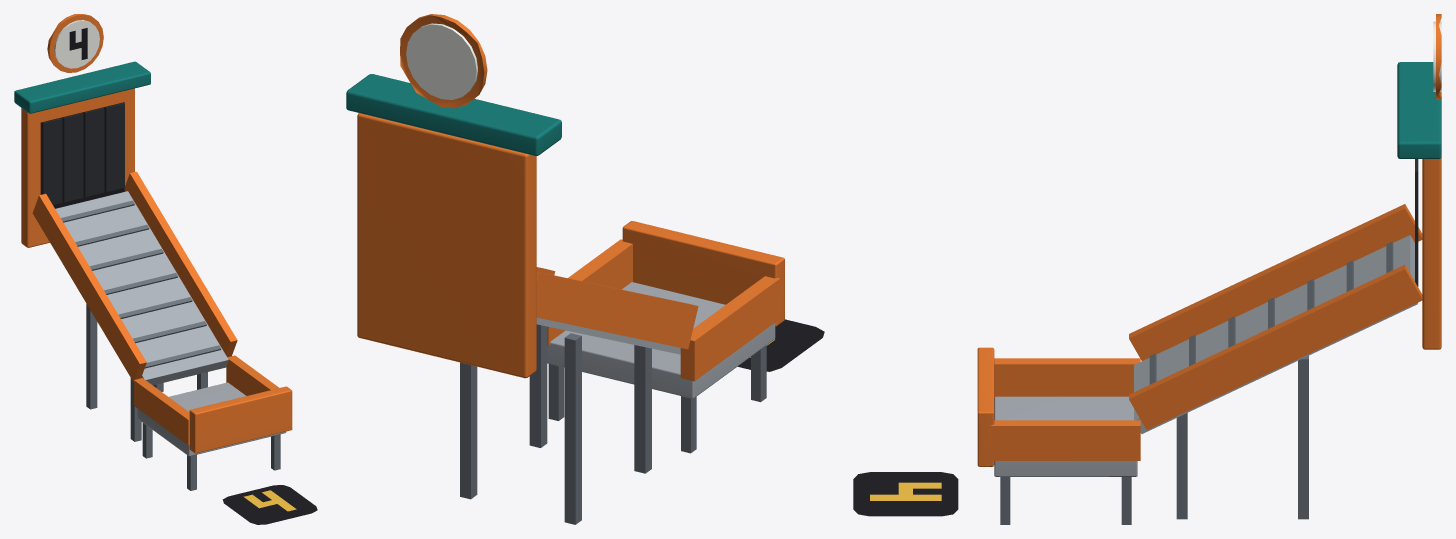
Rendered from Tobogan4.fbx.
3 renders of one model, left to right at view 1: azimuth 30°, elevation 25°; view 2: azimuth 150°, elevation 25°; view 3: azimuth 270°, elevation 25°, orthographic. The views are drawn at different scales.
Visible parts, largest first — view 1: Tobogan4; view 2: Tobogan4; view 3: Tobogan4.
Part boxes in pixels (x1,y1,x2,y2): Tobogan4: [14, 14, 317, 524]; Tobogan4: [346, 14, 824, 524]; Tobogan4: [853, 14, 1441, 524].
Bounding box in the file's own units: 3.5 × 9.53 × 10.65.
Materials: 1 (1 with a texture image).
